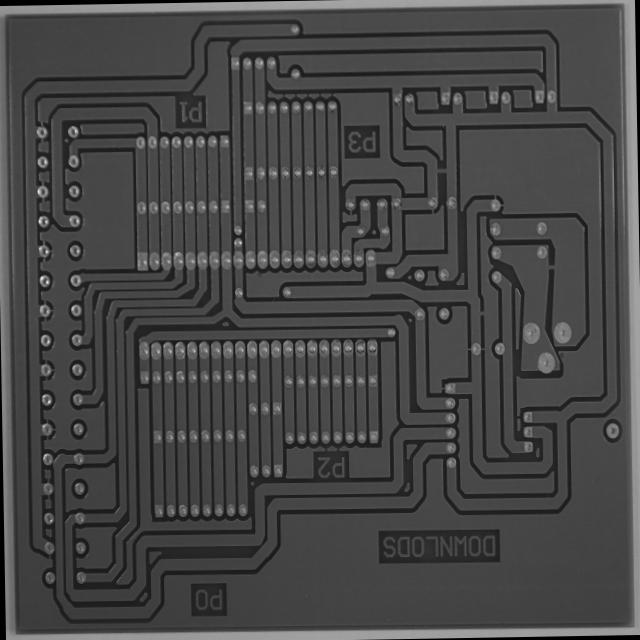short: (430, 153, 456, 185), (470, 296, 496, 328), (539, 251, 564, 282)
